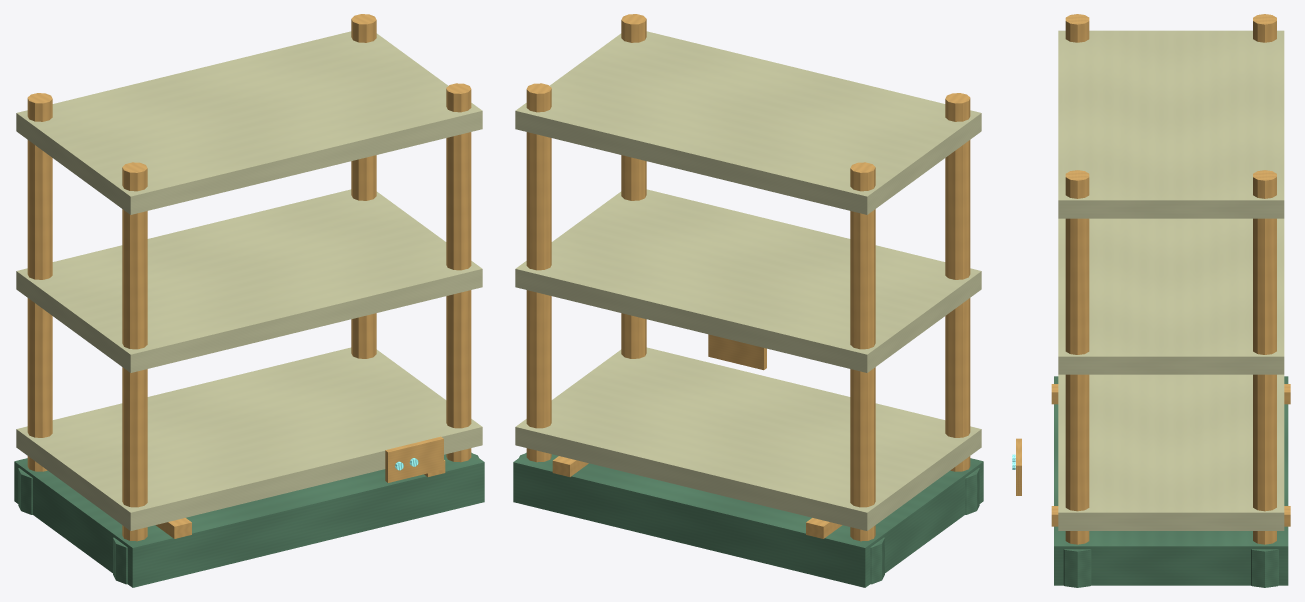
File: atlas100-s007-a06.glb
3 views of the same model, side by side, from view 1: azimuth 30°, elevation 25°; view 2: azimuth 150°, elevation 25°; view 3: azimuth 270°, elevation 25° (orthographic).
Parts seen in each view (by area): view 1: atlas100-s007-a06:part-013, atlas100-s007-a06:part-012, atlas100-s007-a06:part-011, atlas100-s007-a06:part-000, atlas100-s007-a06:part-005, atlas100-s007-a06:part-009, atlas100-s007-a06:part-003, atlas100-s007-a06:part-007, atlas100-s007-a06:part-014, atlas100-s007-a06:part-004, atlas100-s007-a06:part-006; view 2: atlas100-s007-a06:part-013, atlas100-s007-a06:part-012, atlas100-s007-a06:part-011, atlas100-s007-a06:part-000, atlas100-s007-a06:part-003, atlas100-s007-a06:part-007, atlas100-s007-a06:part-005, atlas100-s007-a06:part-009, atlas100-s007-a06:part-014, atlas100-s007-a06:part-006, atlas100-s007-a06:part-004; view 3: atlas100-s007-a06:part-013, atlas100-s007-a06:part-012, atlas100-s007-a06:part-011, atlas100-s007-a06:part-000, atlas100-s007-a06:part-009, atlas100-s007-a06:part-007, atlas100-s007-a06:part-010, atlas100-s007-a06:part-008, atlas100-s007-a06:part-005, atlas100-s007-a06:part-003.
Boxes of the visible parts, left/top/right/bottom form: atlas100-s007-a06:part-013: left=16, top=31, right=482, bottom=214; atlas100-s007-a06:part-012: left=16, top=189, right=482, bottom=372; atlas100-s007-a06:part-011: left=16, top=347, right=482, bottom=530; atlas100-s007-a06:part-000: left=14, top=452, right=484, bottom=587; atlas100-s007-a06:part-005: left=122, top=162, right=147, bottom=541; atlas100-s007-a06:part-009: left=446, top=83, right=471, bottom=462; atlas100-s007-a06:part-003: left=27, top=93, right=52, bottom=471; atlas100-s007-a06:part-007: left=351, top=14, right=376, bottom=358; atlas100-s007-a06:part-014: left=385, top=436, right=443, bottom=482; atlas100-s007-a06:part-004: left=18, top=468, right=32, bottom=514; atlas100-s007-a06:part-006: left=113, top=537, right=127, bottom=584; atlas100-s007-a06:part-013: left=515, top=31, right=981, bottom=214; atlas100-s007-a06:part-012: left=515, top=189, right=981, bottom=372; atlas100-s007-a06:part-011: left=515, top=347, right=981, bottom=530; atlas100-s007-a06:part-000: left=513, top=452, right=983, bottom=587; atlas100-s007-a06:part-003: left=850, top=162, right=875, bottom=541; atlas100-s007-a06:part-007: left=526, top=83, right=551, bottom=462; atlas100-s007-a06:part-005: left=945, top=93, right=970, bottom=471; atlas100-s007-a06:part-009: left=621, top=14, right=646, bottom=358; atlas100-s007-a06:part-014: left=708, top=334, right=766, bottom=370; atlas100-s007-a06:part-006: left=965, top=468, right=979, bottom=514; atlas100-s007-a06:part-004: left=870, top=537, right=884, bottom=584; atlas100-s007-a06:part-013: left=1058, top=30, right=1284, bottom=218; atlas100-s007-a06:part-012: left=1058, top=218, right=1284, bottom=374; atlas100-s007-a06:part-011: left=1058, top=374, right=1284, bottom=530; atlas100-s007-a06:part-000: left=1054, top=376, right=1288, bottom=585; atlas100-s007-a06:part-009: left=1065, top=170, right=1089, bottom=544; atlas100-s007-a06:part-007: left=1253, top=170, right=1276, bottom=544; atlas100-s007-a06:part-010: left=1063, top=549, right=1091, bottom=587; atlas100-s007-a06:part-008: left=1251, top=549, right=1278, bottom=587; atlas100-s007-a06:part-005: left=1065, top=14, right=1089, bottom=42; atlas100-s007-a06:part-003: left=1253, top=14, right=1276, bottom=42.
Size of the model in its own units: 2.47 by 2.66 by 1.66.
4 materials, 4 textured.
